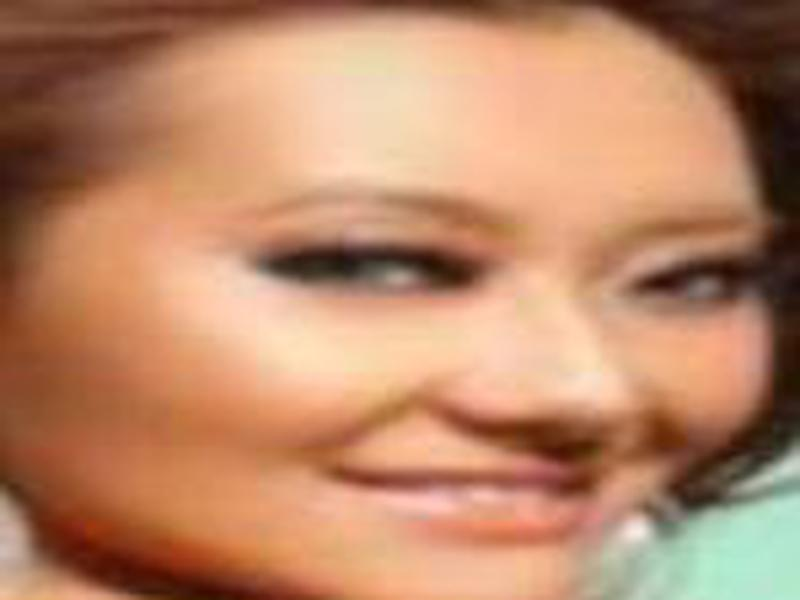without_mask: (23, 19, 772, 600)
